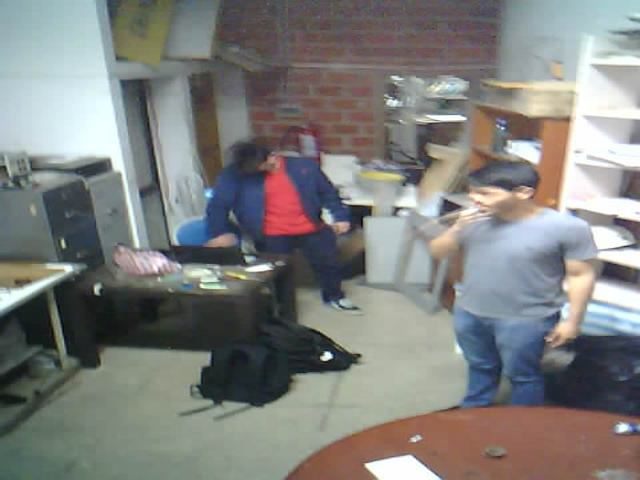person: (425, 135, 603, 438), (192, 122, 371, 321)
